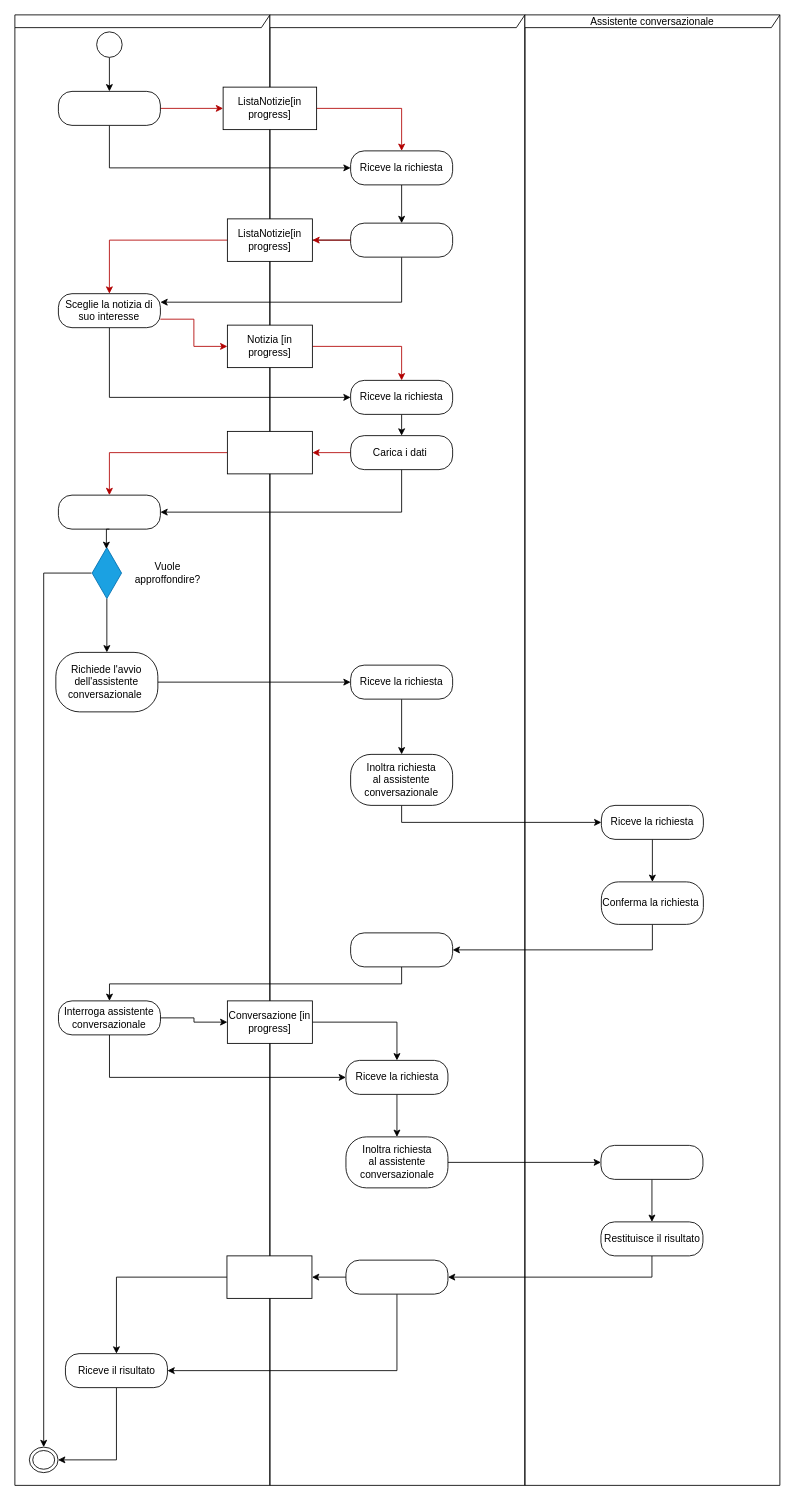
Some shapes in this 795 by 1500 pixel diagram are drawn without their labels. Here are the shapes that lost their labels. From the top down, the box of each, then its label:
(58, 91, 160, 125): Accede all'appicazione
(350, 222, 453, 257): Carica le notizie
(227, 431, 312, 474): Notizia [completed]
(58, 494, 160, 529): Riceve la notizia
(14, 14, 270, 1485): Utente
(269, 14, 525, 1485): Sistema
(350, 932, 453, 967): Apre assistente conversazionale
(600, 1145, 703, 1179): Elabora richiesta
(226, 1255, 312, 1298): Conversazione [completed]
(345, 1259, 448, 1294): Visualizza il risultato
